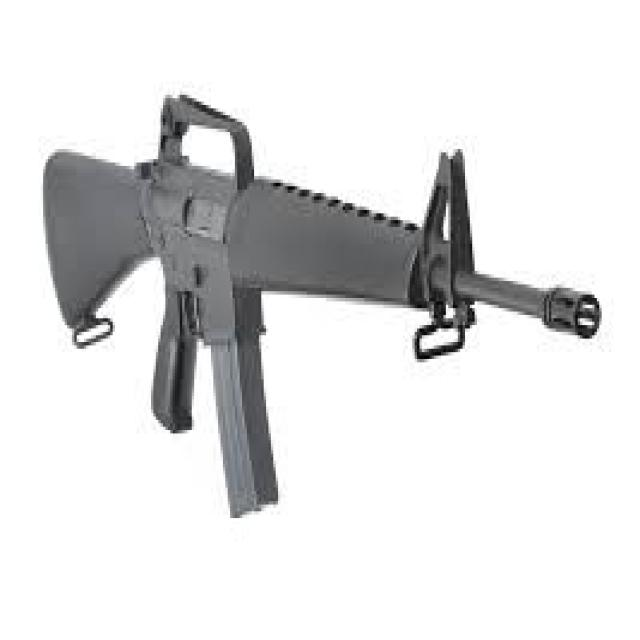rifle: (37, 86, 603, 531)
